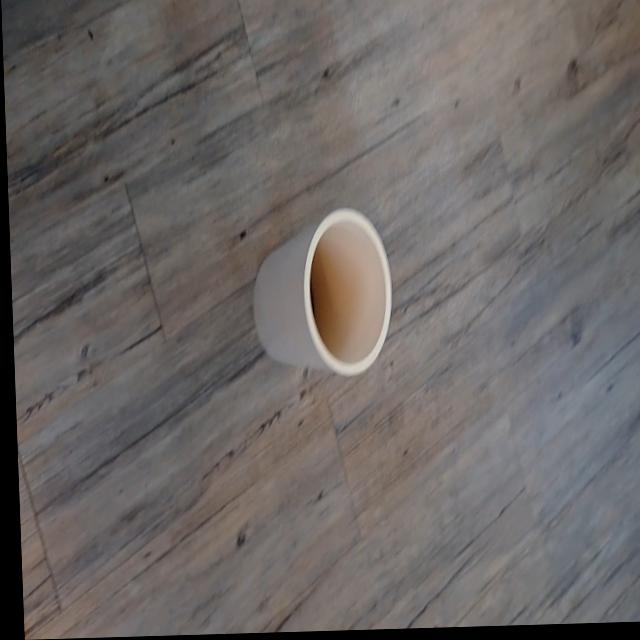CORAL: (236, 187, 417, 402)
